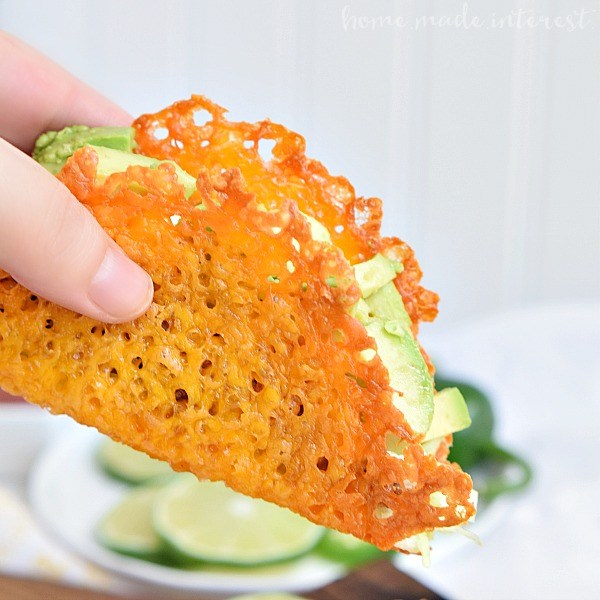cheese: (317, 406, 496, 537), (167, 267, 281, 412), (164, 90, 307, 188)
